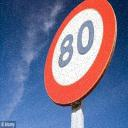speed_limit_80: (43, 0, 117, 106)
